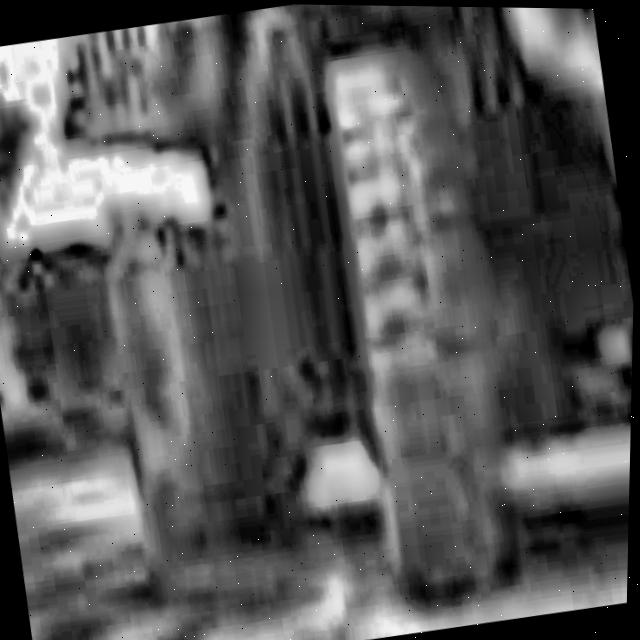dump_truck: (48, 1, 640, 640)
